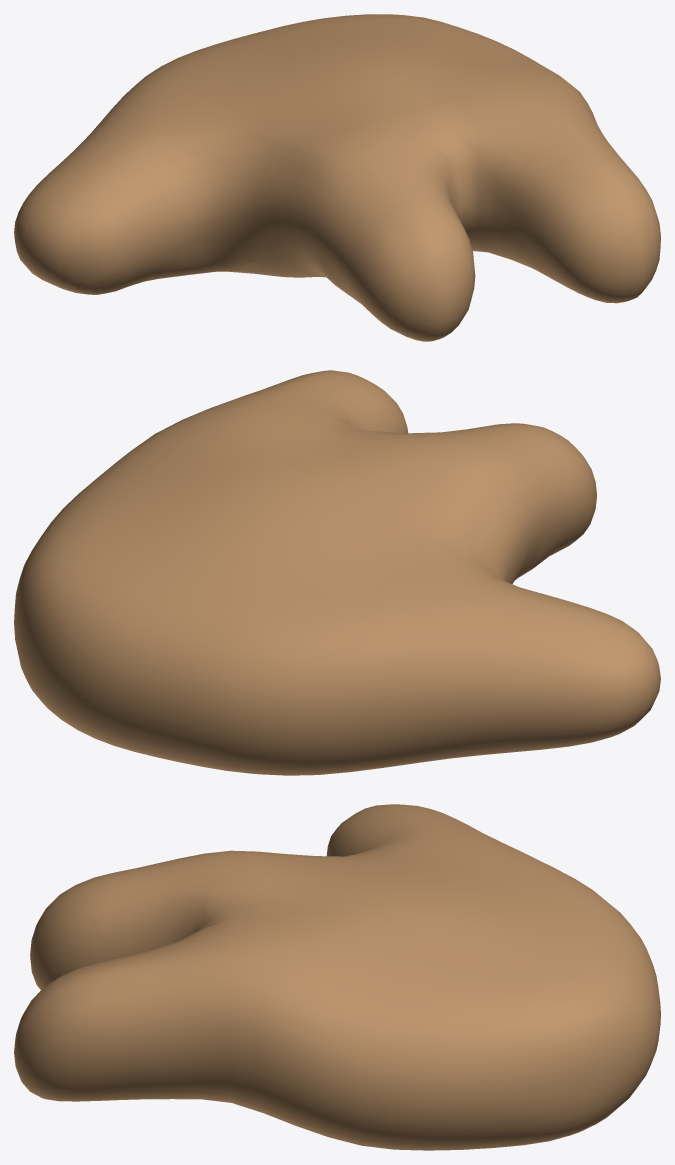
File: left-hand.fbx
The picture shows the model from 3 angles, top to bottom: view 1: azimuth 30°, elevation 25°; view 2: azimuth 150°, elevation 25°; view 3: azimuth 270°, elevation 25°; orthographic projection. The views are drawn at different scales.
Visible parts, largest first — view 1: Left Hand; view 2: Left Hand; view 3: Left Hand.
Part boxes in pixels (box(x1,y1,x2,y2)): Left Hand: box(14, 14, 660, 341); Left Hand: box(14, 370, 660, 775); Left Hand: box(14, 804, 660, 1150).
Size of the model in its own units: 15.99 by 5.25 by 15.84.
